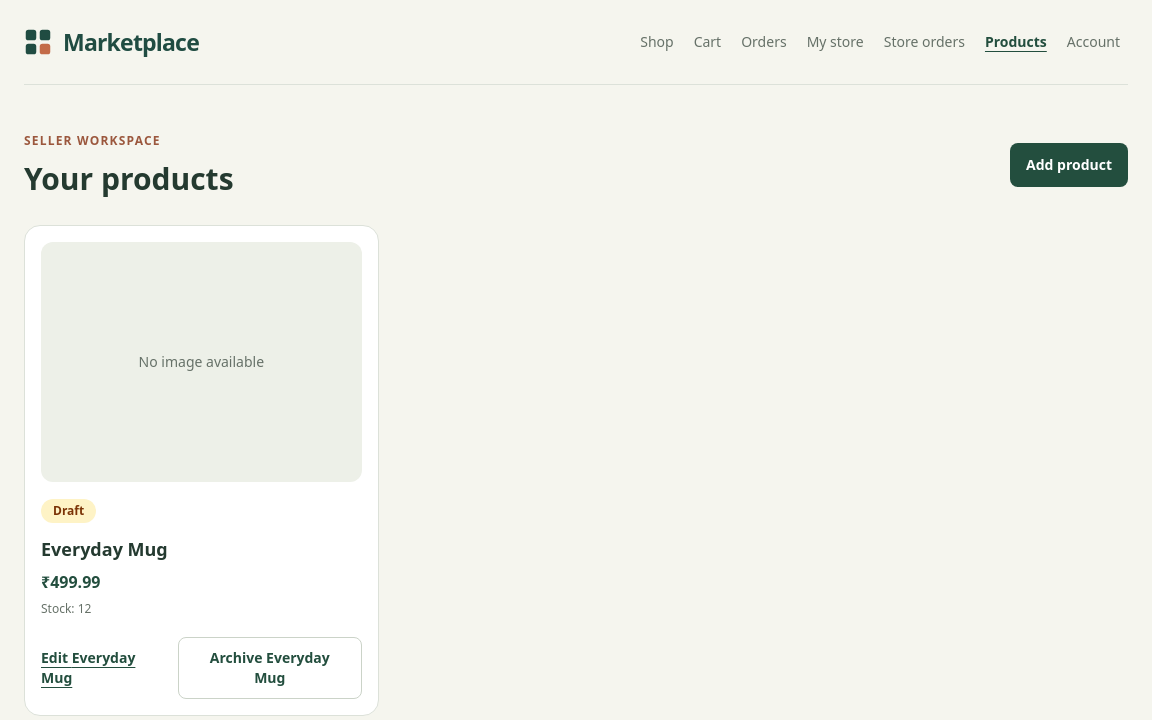
Test case: a vendor archives a listing and the visible list updates
Click the button "Archive Everyday Mug".
click(270, 668)  # box 178,638 -> 362,700
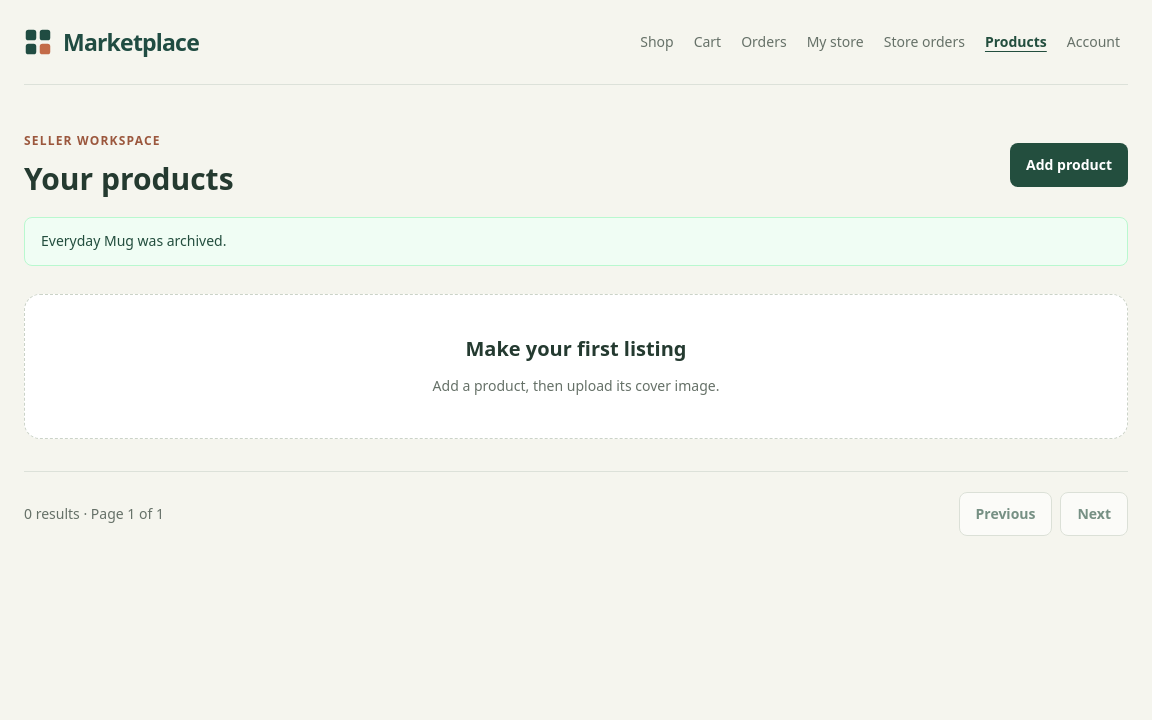
Check: the text "Everyday Mug was archived." is shown, box 24,217 -> 1128,266
Check: the heading "Make your first listing" is shown, box 466,335 -> 686,362
